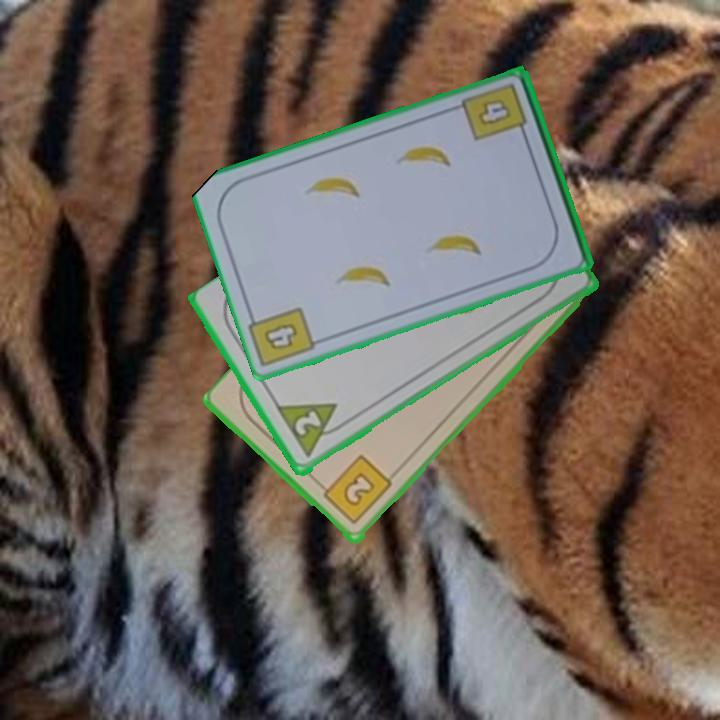2b: (314, 452, 395, 528)
2p: (273, 399, 351, 461)
4b: (459, 80, 531, 145), (259, 320, 300, 354)
